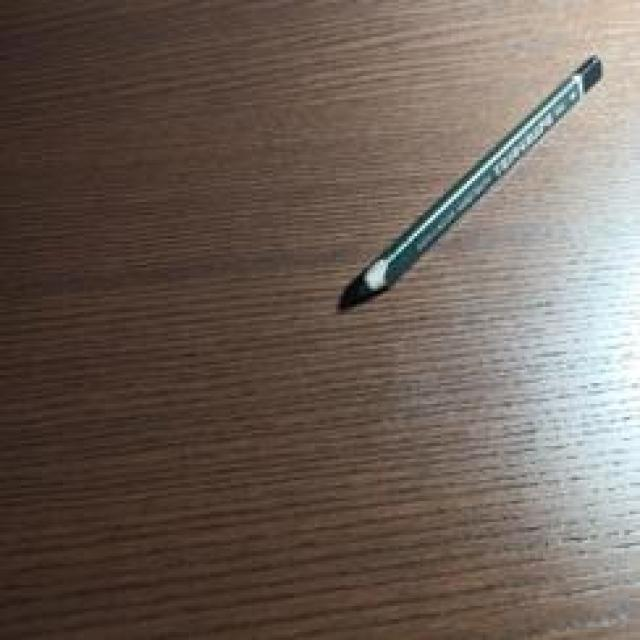pencil: (336, 53, 603, 310)
